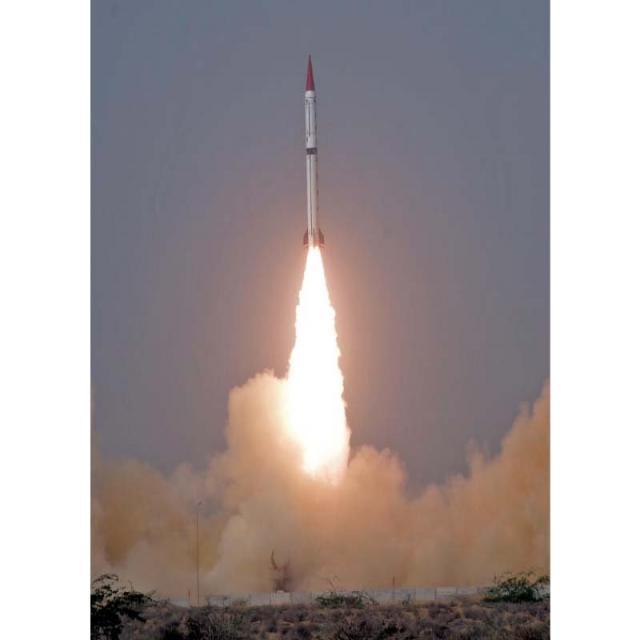Missile: (297, 47, 330, 269)
